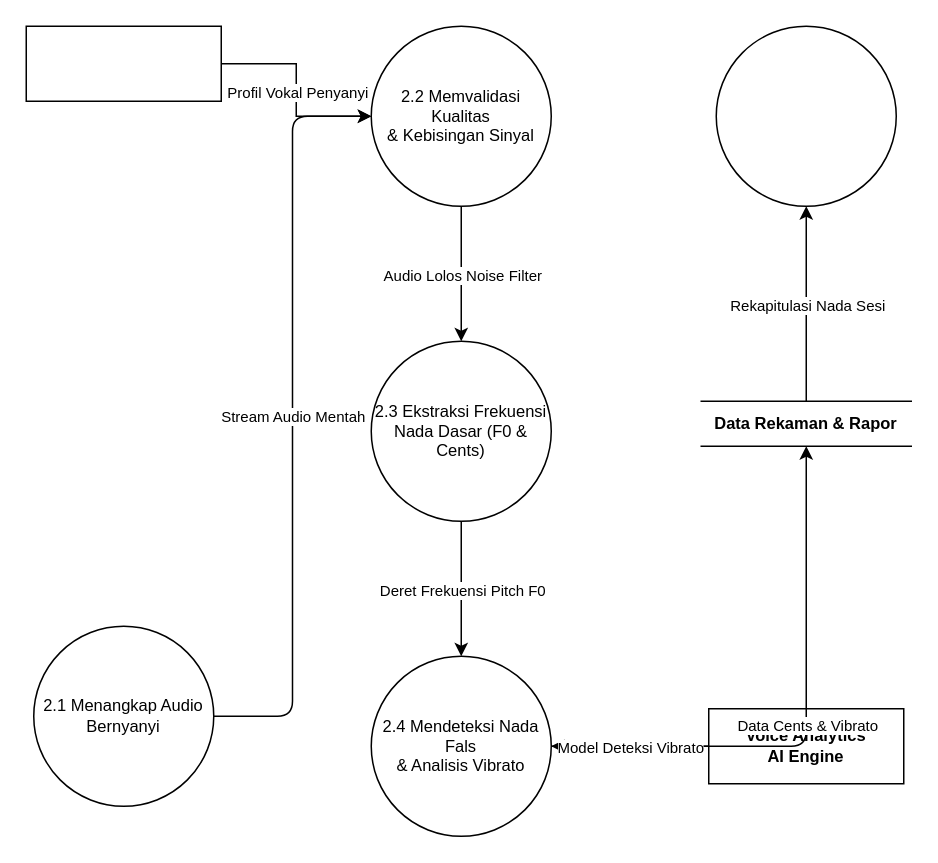
This 938x863 diagram has some shape labels left out. Each missing label, with the box of its shape:
1 Sistem Akun & Profil: (25, 25, 221, 101)
2.5 Mengompilasi Skor & Saran Teknik AI: (715, 25, 896, 206)
